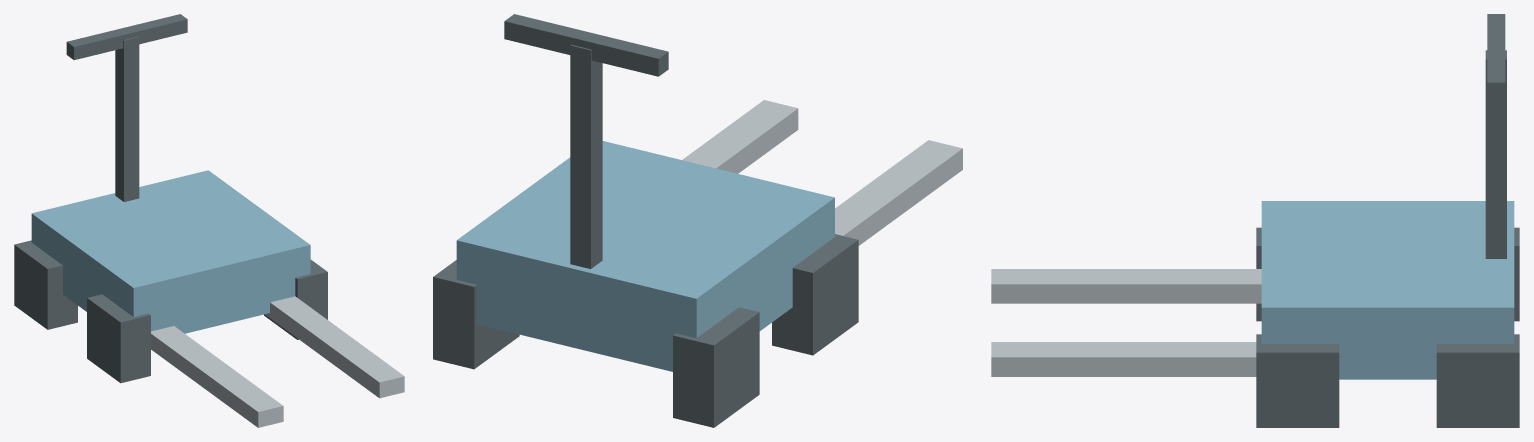
The model's file is pallet_jack.glb.
3 renders of one model, left to right at view 1: azimuth 30°, elevation 25°; view 2: azimuth 150°, elevation 25°; view 3: azimuth 270°, elevation 25°, orthographic. The views are drawn at different scales.
Bounding box in the file's own units: 0.82 × 0.97 × 1.47.
